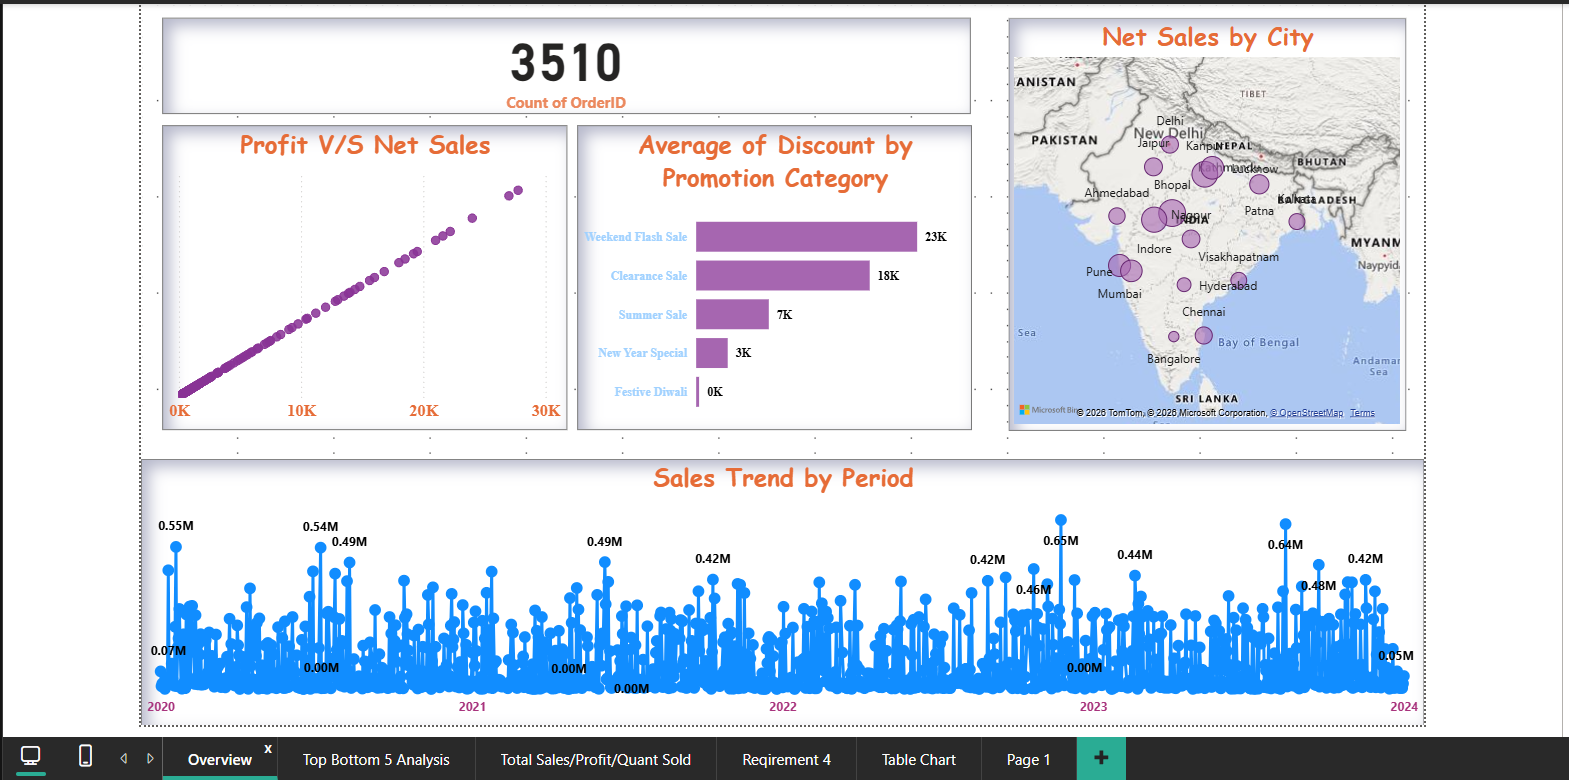

The page's visual inventory and layout, read from the dashboard file:
{"tool":"powerbi","page":{"name":"Overview ","canvas":[1280,720],"ordinal":0},"visuals":[{"type":"lineChart","title":"Sales Trend by Period","fields":{"Y":["Sum(Fact Table.Net Sales   )"],"Category":["Fact Table.Date (dd/mm/yyyy).Variation.Date Hierarchy.Year"]},"box":[0,453.3,1280,266.7],"z":0},{"type":"scatterChart","title":"Profit V/S Net Sales ","fields":{"X":["Fact Table.Profit"],"Y":["Fact Table.Net Sales   "]},"box":[21.2,121.2,403.8,303.8],"z":1000},{"type":"barChart","title":"Average of Discount by Promotion Category","fields":{"Y":["Avg(Fact Table.Discount)"],"Category":["Dim Promotion.Promotion Name"]},"box":[435,121.2,393.8,303.8],"z":2000},{"type":"map","title":"Net Sales by City","fields":{"Category":["Dim Customers.City"],"Size":["Sum(Fact Table.Net Sales   )"]},"box":[865,13.3,396.7,411.7],"z":3000},{"type":"card","fields":{"Values":["Count(Fact Table.OrderID)"]},"box":[21.2,13.8,806.2,96.2],"z":4000}]}

Visuals, with their boxes on the page's 1280x720 design canvas (x1, y1, x2, y2). These are canvas units, not pixel positions in the 1569x780 screenshot, which may show the page scaled, cropped or inside an application window:
"Sales Trend by Period" lineChart: select_region(0, 453, 1280, 720)
"Profit V/S Net Sales " scatterChart: select_region(21, 121, 425, 425)
"Average of Discount by Promotion Category" barChart: select_region(435, 121, 829, 425)
"Net Sales by City" map: select_region(865, 13, 1262, 425)
card - Count(Fact Table.OrderID): select_region(21, 14, 827, 110)
